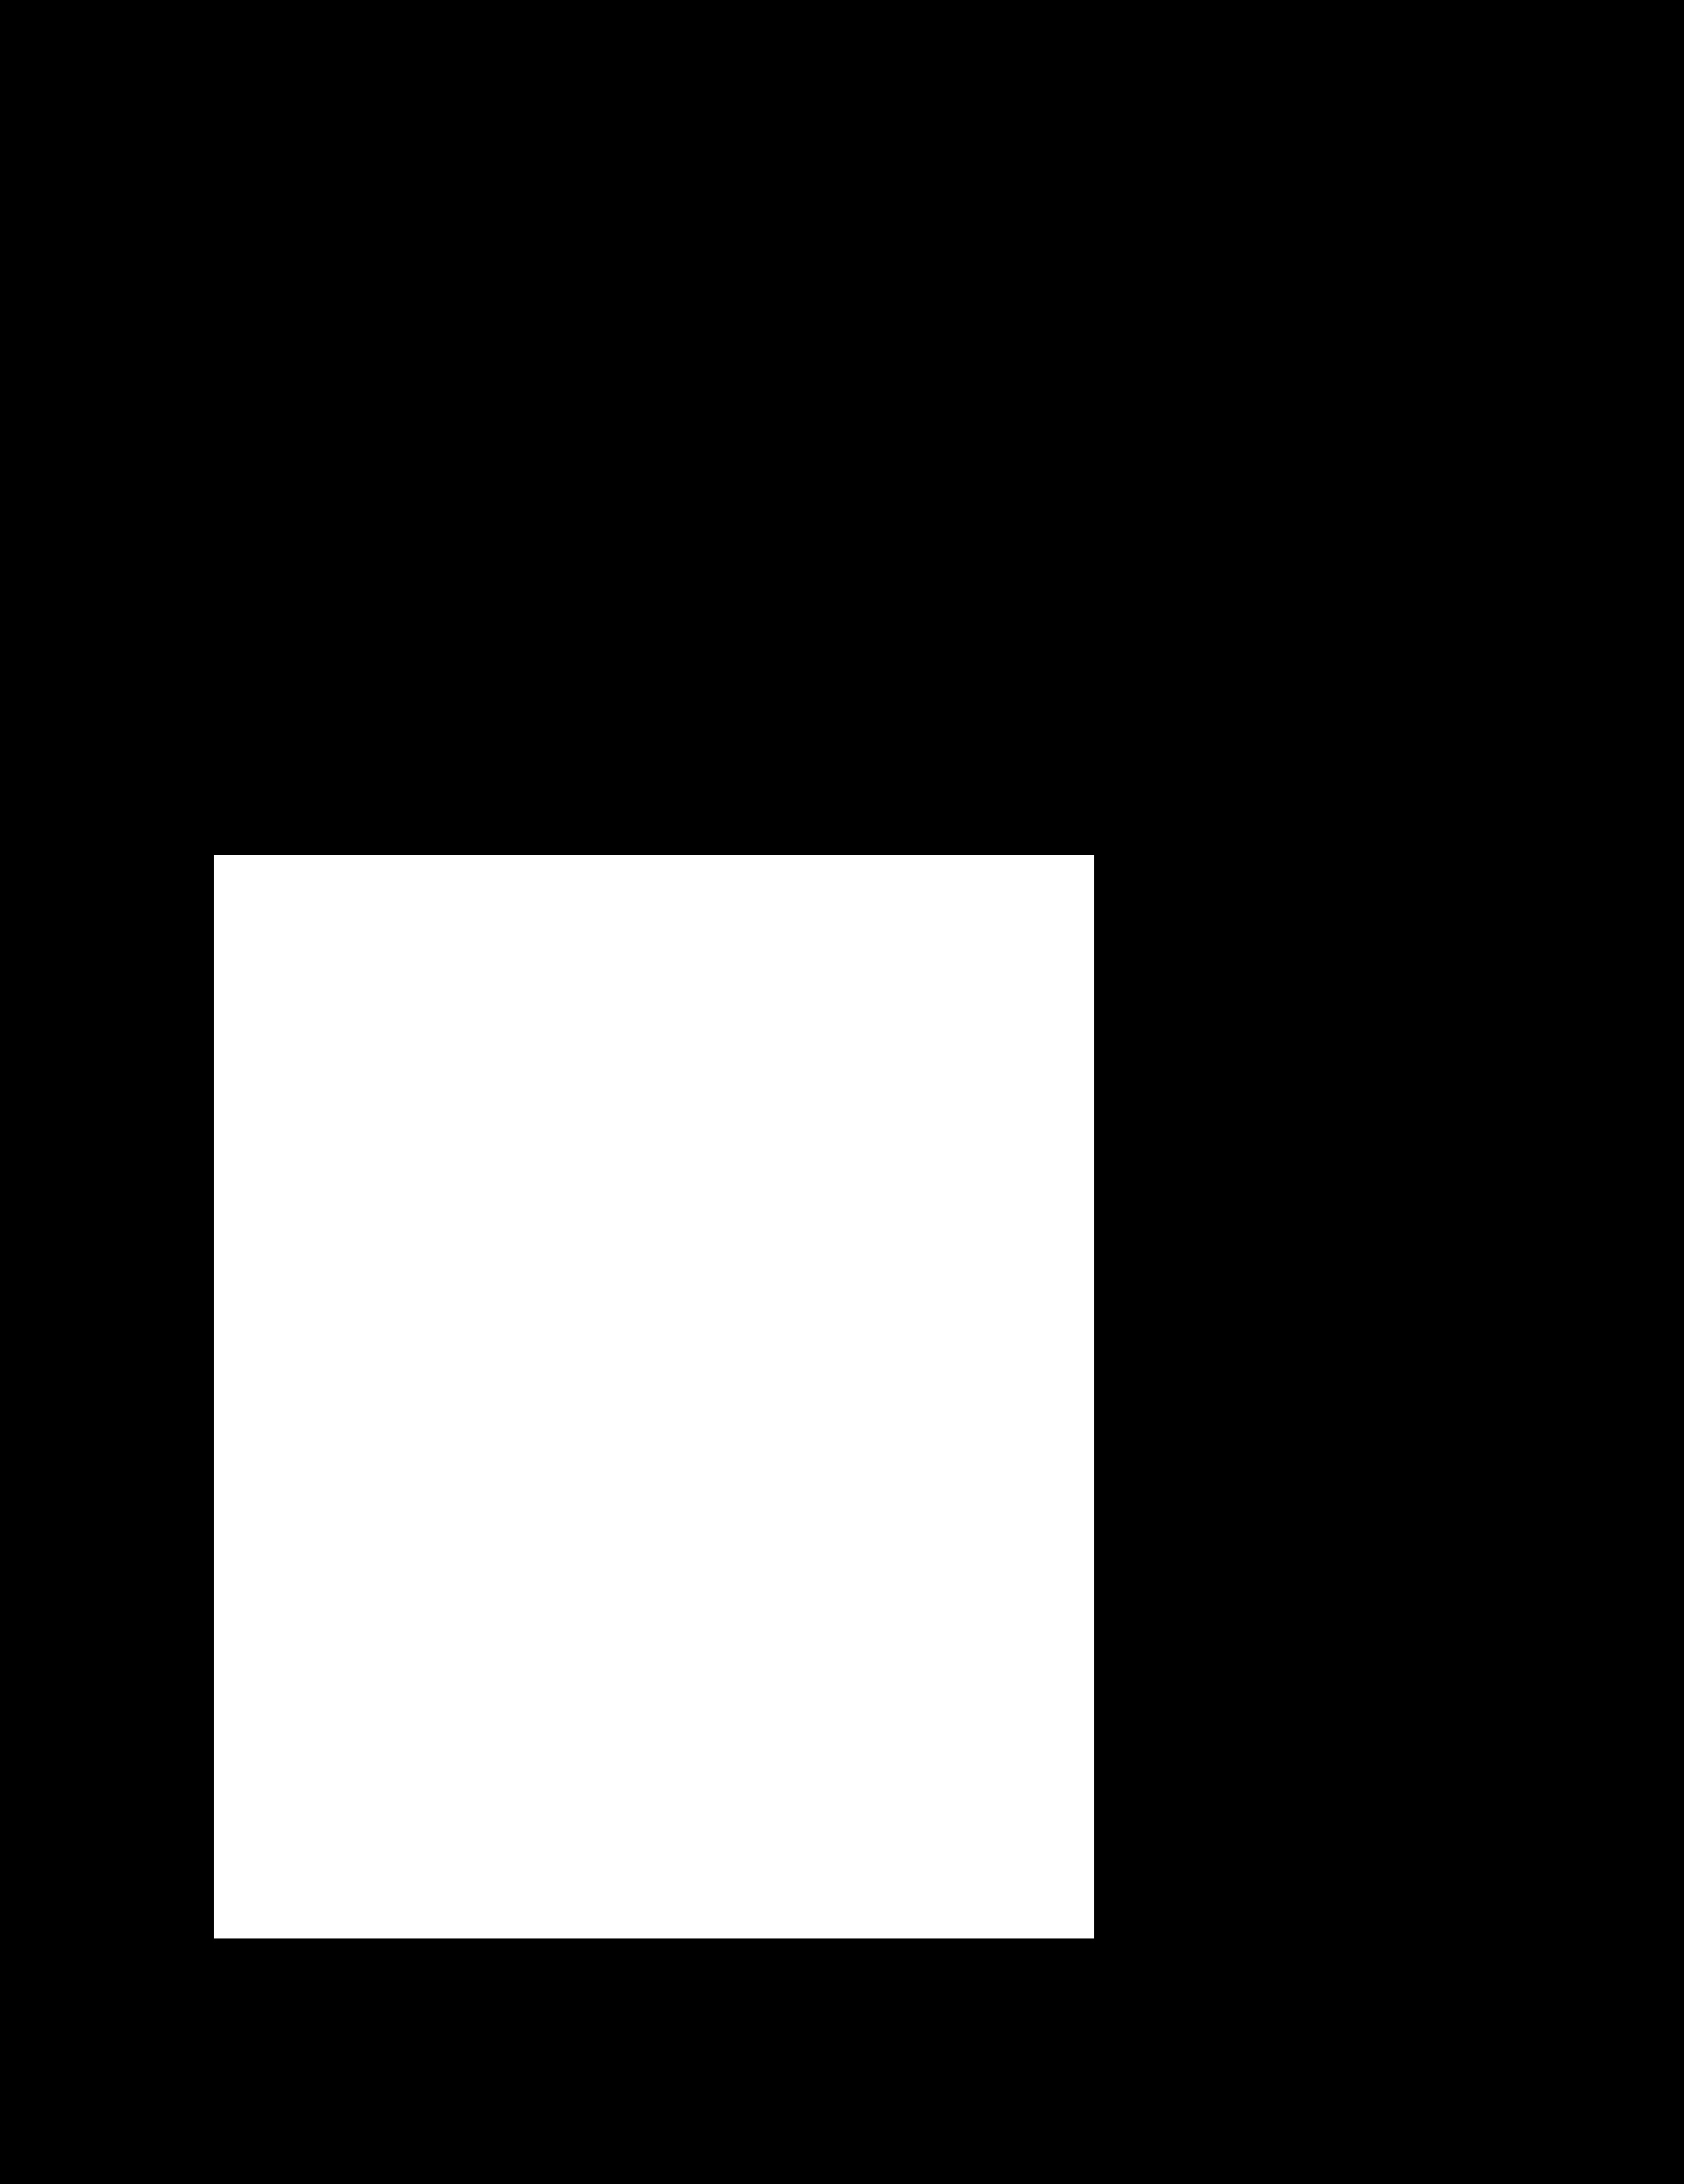table: (214, 856, 1093, 1938)
